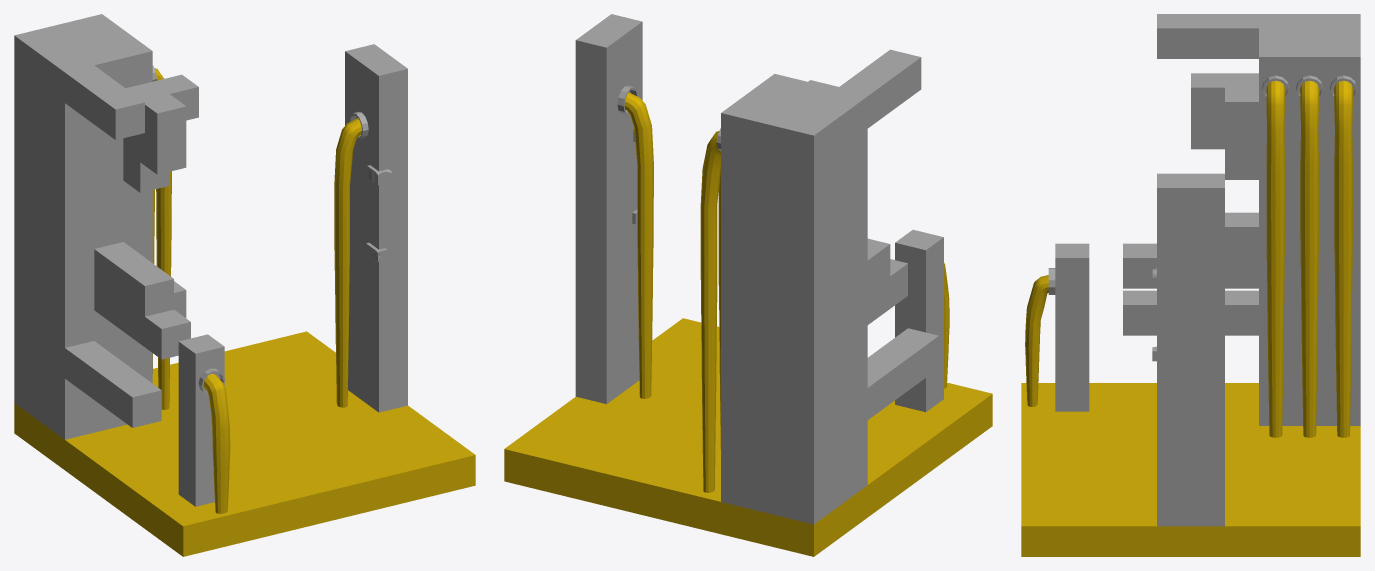
The model's file is lava_fall_env.fbx.
3 views of the same model, side by side, from view 1: azimuth 30°, elevation 25°; view 2: azimuth 150°, elevation 25°; view 3: azimuth 270°, elevation 25° (orthographic). The views are drawn at different scales.
Parts seen in each view (by area): view 1: env, lava_lake, lava_fall, Pipes; view 2: env, lava_lake, lava_fall; view 3: env, lava_lake, lava_fall, Pipes.
Part boxes in pixels (bbox=[...]): env: bbox=[14, 14, 407, 506]; lava_lake: bbox=[14, 331, 475, 556]; lava_fall: bbox=[152, 68, 361, 513]; Pipes: bbox=[152, 65, 368, 395]; env: bbox=[575, 14, 943, 524]; lava_lake: bbox=[504, 318, 992, 556]; lava_fall: bbox=[624, 92, 949, 492]; env: bbox=[1055, 14, 1360, 526]; lava_lake: bbox=[1021, 383, 1360, 556]; lava_fall: bbox=[1025, 80, 1352, 437]; Pipes: bbox=[1048, 75, 1357, 294].
Bounding box in the file's own units: 100 × 130 × 100.
